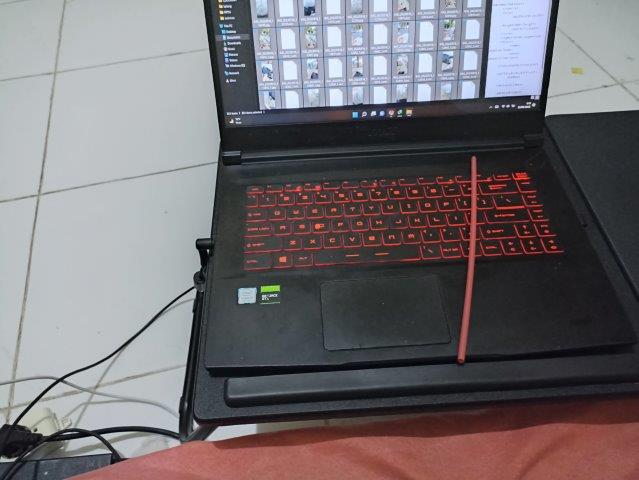sedotan: (458, 156, 477, 362)
